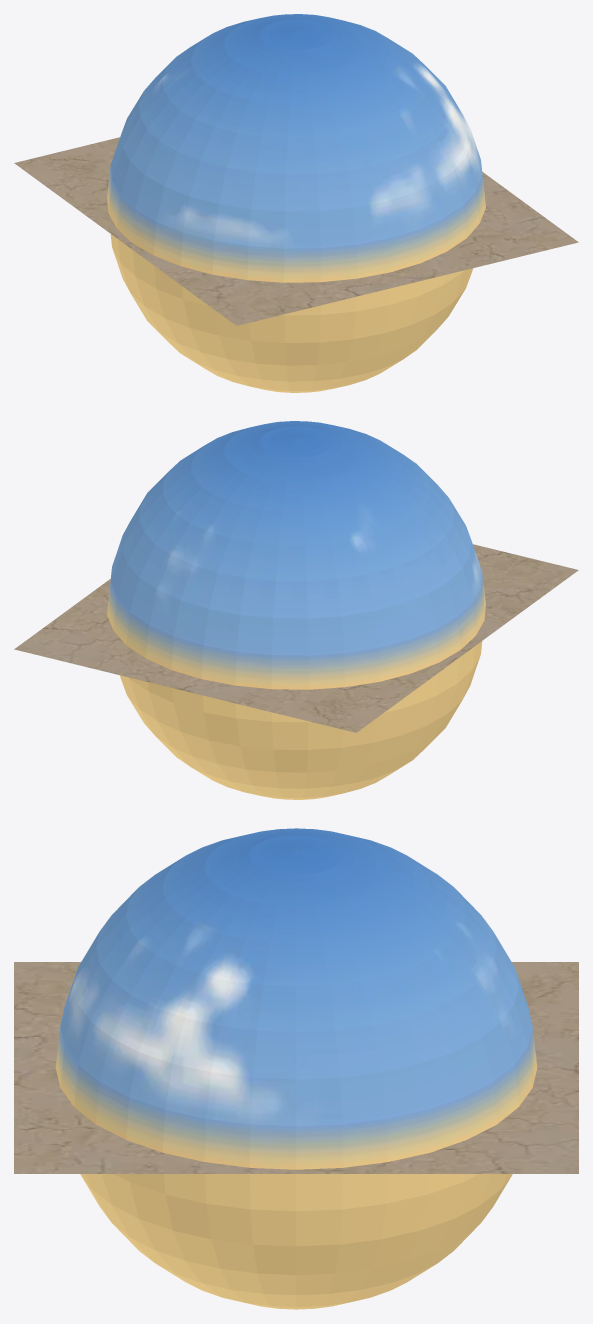
Rendered from core.gltf.
3 renders of one model, top to bottom at view 1: azimuth 30°, elevation 25°; view 2: azimuth 150°, elevation 25°; view 3: azimuth 270°, elevation 25°, orthographic. The views are drawn at different scales.
Visible parts, largest first — view 1: Sphere.001, Plane.012; view 2: Sphere.001, Plane.012; view 3: Sphere.001, Plane.012.
Part boxes in pixels (x1,y1,x2,y2): Sphere.001: (107,14,485,392); Plane.012: (14,137,578,325); Sphere.001: (107,421,485,799); Plane.012: (14,544,578,732); Sphere.001: (55,828,537,1309); Plane.012: (14,962,578,1173).
Bounding box in the file's own units: 740 × 711 × 833.
Materials: 10 (5 with a texture image).
